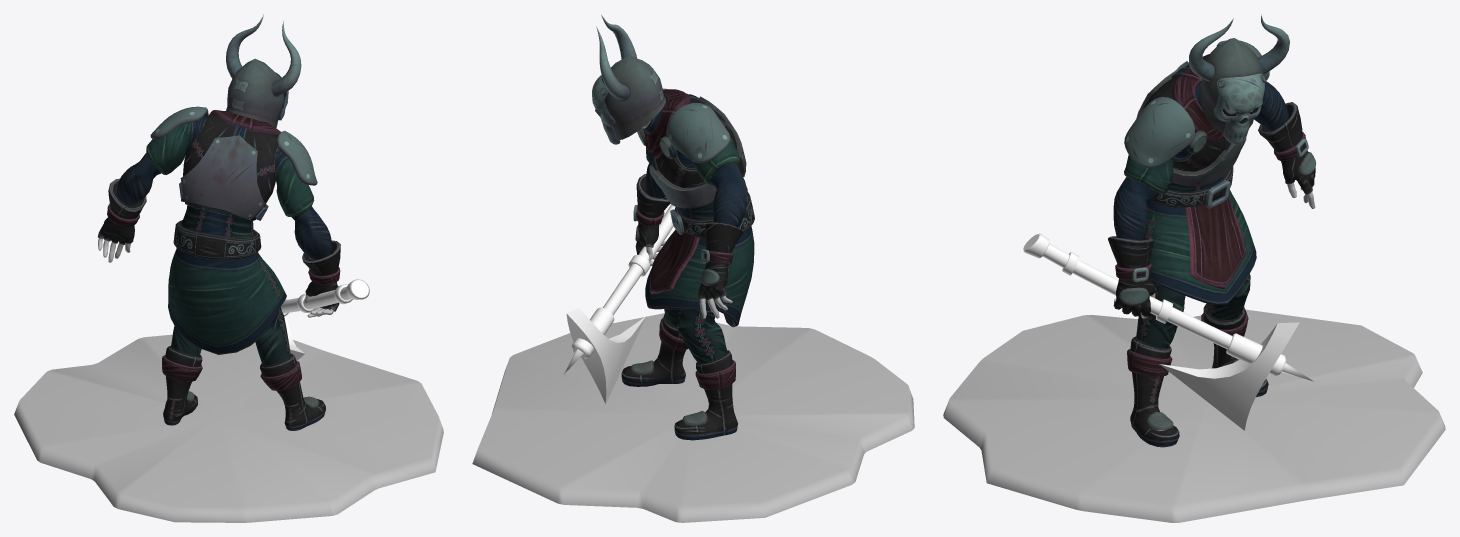
The model's file is Wraith_Knight.fbx.
3 views of the same model, side by side, from view 1: azimuth 30°, elevation 25°; view 2: azimuth 150°, elevation 25°; view 3: azimuth 270°, elevation 25° (orthographic). The views are drawn at different scales.
Visible parts, largest first — view 1: Wraith_Base, Wraith_Armor, Wraith_Axe; view 2: Wraith_Base, Wraith_Armor, Wraith_Axe; view 3: Wraith_Base, Wraith_Armor, Wraith_Axe.
Part boxes in pixels (x1=…): Wraith_Base: x1=14, y1=334, x2=443, y2=522; Wraith_Armor: x1=98, y1=14, x2=340, y2=430; Wraith_Axe: x1=281, y1=279, x2=369, y2=360; Wraith_Base: x1=472, y1=313, x2=914, y2=522; Wraith_Armor: x1=592, y1=14, x2=754, y2=440; Wraith_Axe: x1=564, y1=204, x2=675, y2=403; Wraith_Base: x1=943, y1=309, x2=1445, y2=522; Wraith_Armor: x1=1108, y1=14, x2=1316, y2=447; Wraith_Axe: x1=1023, y1=233, x2=1313, y2=430.
Size of the model in its own units: 92.11 by 94.59 by 97.63.
